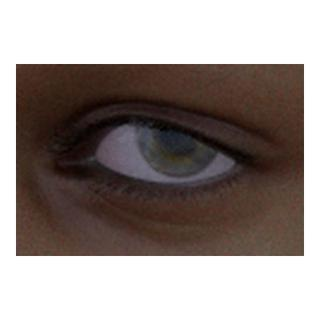pupil: (161, 114, 198, 151)
